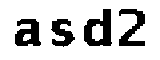2: (116, 4, 148, 51)
a: (12, 17, 46, 51)
d: (78, 7, 116, 49)
s: (47, 16, 79, 50)
